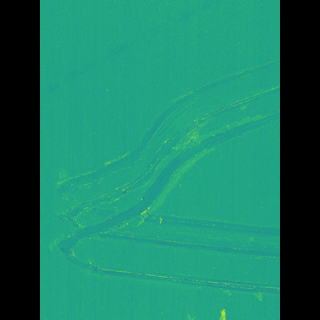Loch: (77, 57, 251, 299), (69, 0, 212, 102)
